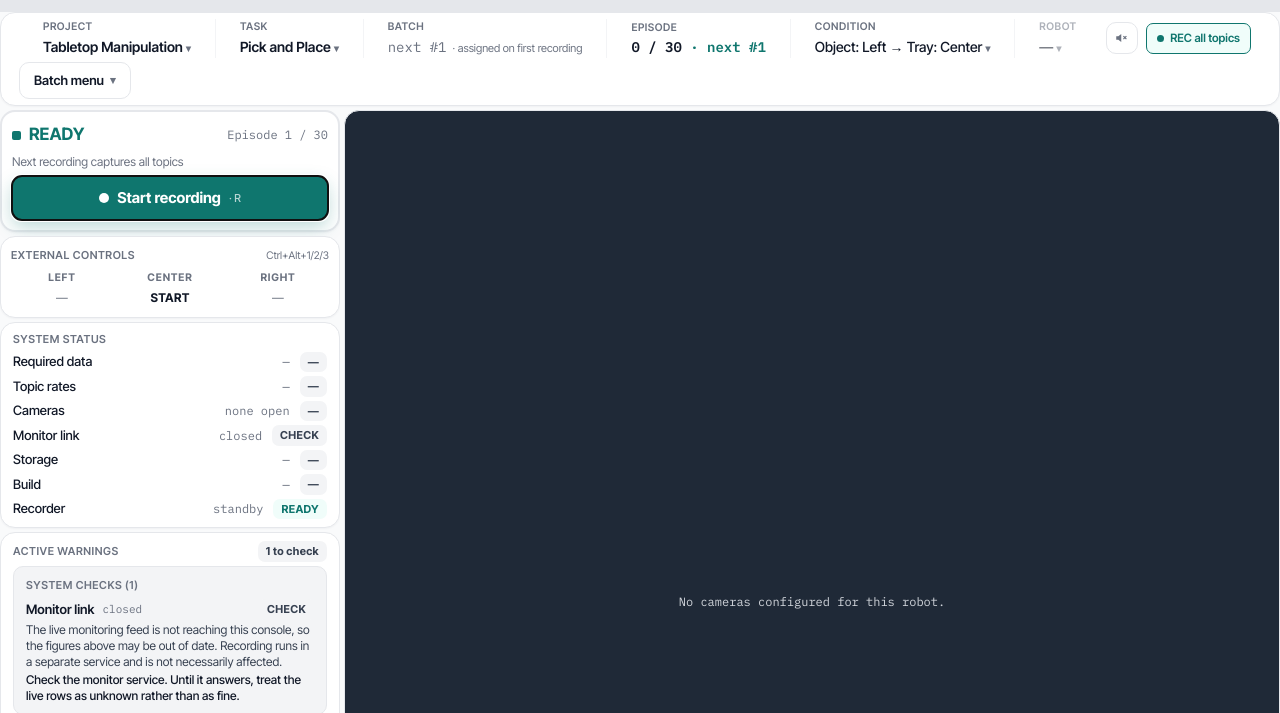
result phase shows the real drop banner and a matching NEEDS REVIEW chip
Expected: the heading with test id "phase-title" reads "READY", [29,124,84,144]
Click the button "Start recording · R": (170, 198) [12,176,328,220]
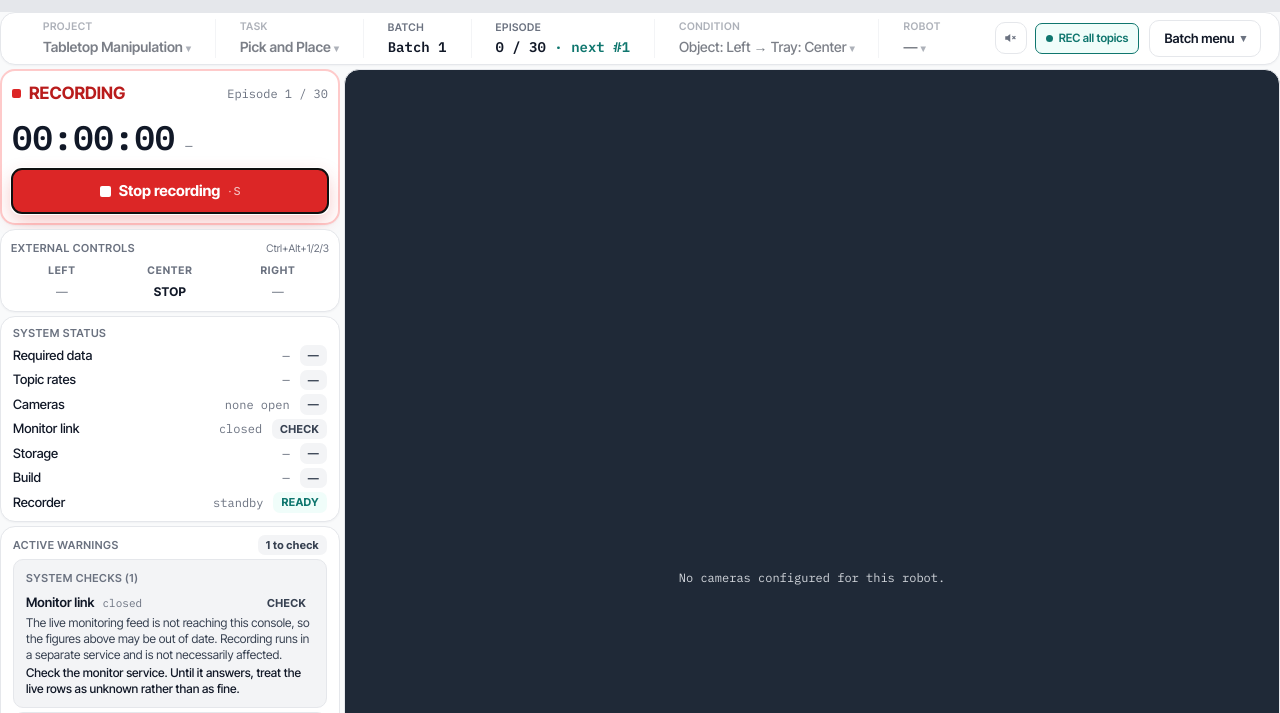
Result: the heading with test id "phase-title" reads "RECORDING" at [29,83,125,103]
Click the button "Stop recording · S": (170, 191) [12,169,328,213]
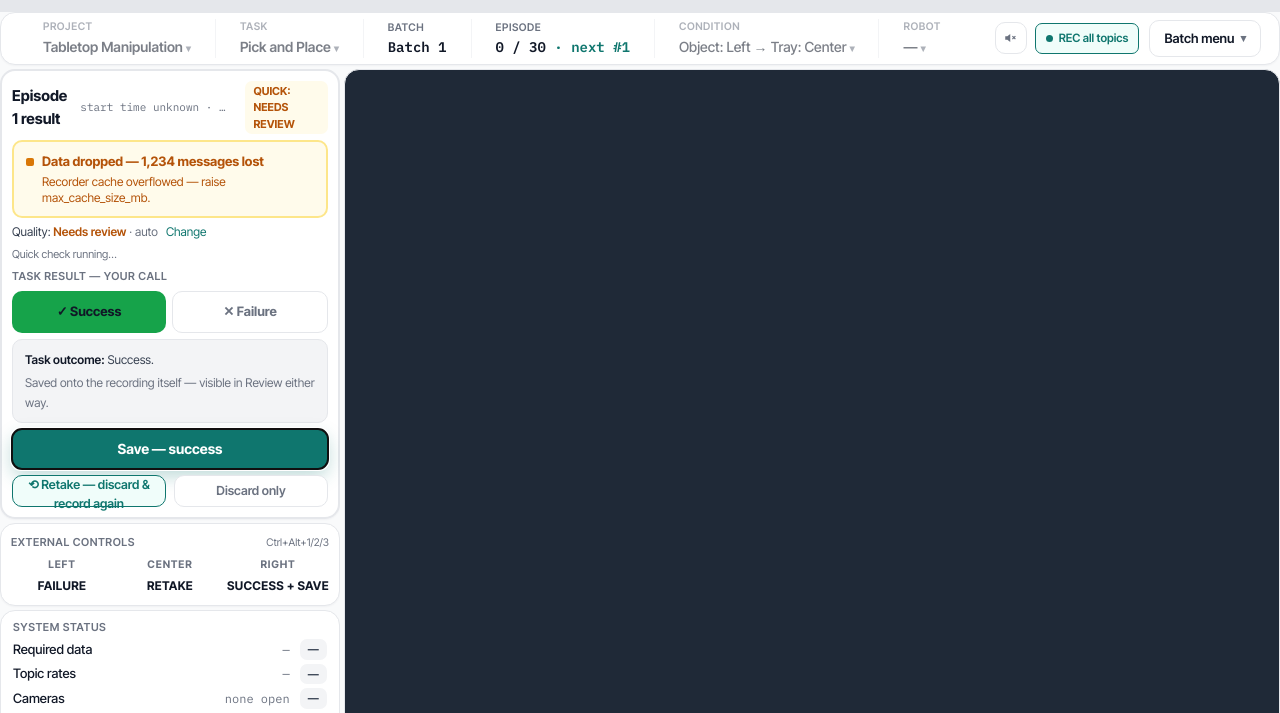
Result: the heading with test id "phase-title" reads "Episode 1 result" at [12,85,72,130]
Result: the message with test id "integrity-banner" shows "raise max_cache_size_mb" at [42,174,226,205]
Result: the text "QUICK: NEEDS REVIEW" is shown at [246,81,328,134]
